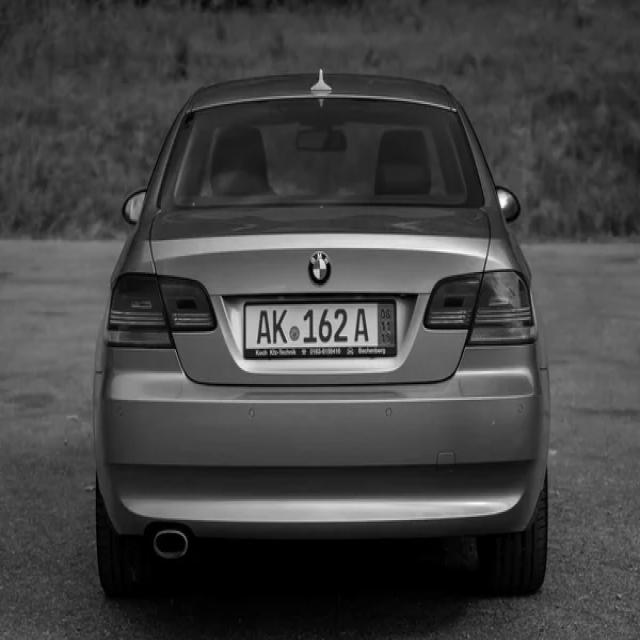Car: (95, 70, 550, 598)
